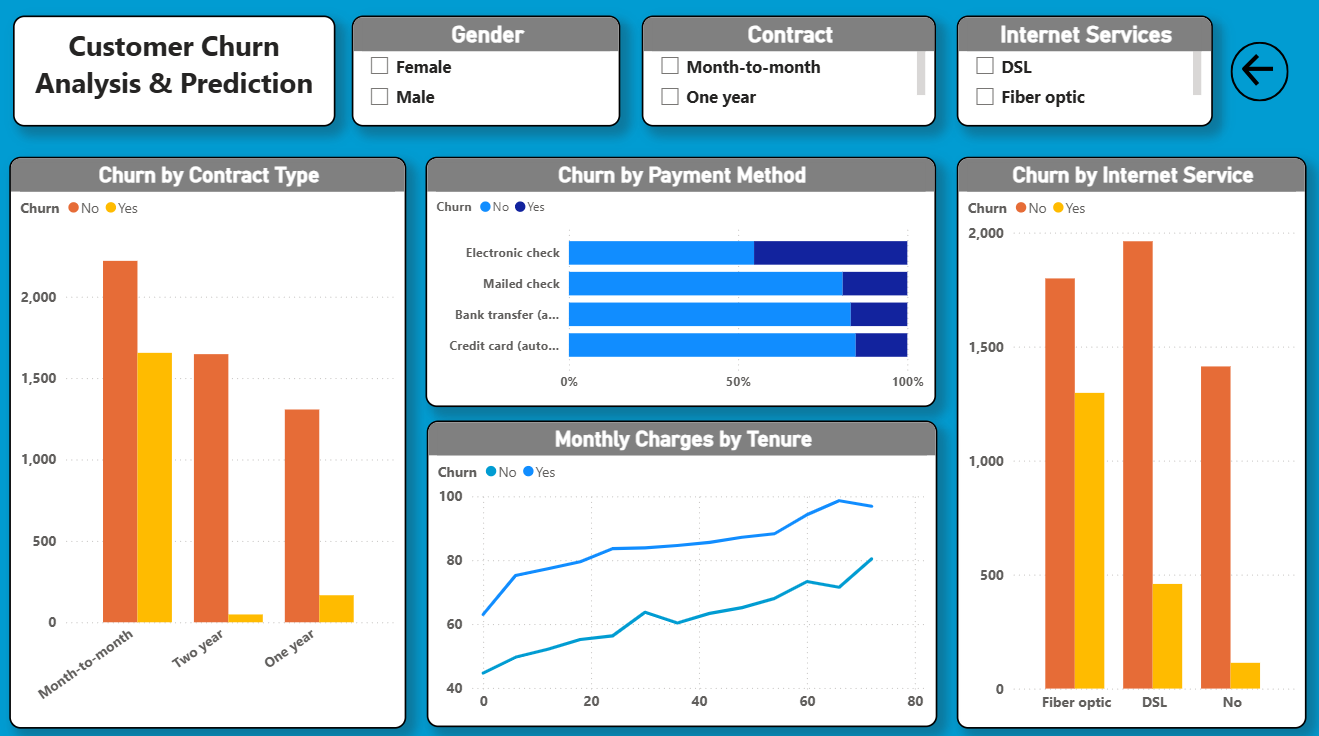

This screenshot's page, from the dashboard's own definition file:
{"tool":"powerbi","page":{"name":"Churn Analysis","canvas":[1280,720],"ordinal":1},"visuals":[{"type":"clusteredColumnChart","title":"Churn by Contract Type","fields":{"Category":["Churn_dataset.Contract"],"Y":["Churn_dataset.Churn Rate"]},"box":[15.1,157.8,382.8,551.6],"z":0},{"type":"clusteredBarChart","title":"Churn by Payment Method","fields":{"Category":["Churn_dataset.PaymentMethod"],"Y":["Churn_dataset.Churn Rate"]},"box":[417.2,157.8,492.6,241.5],"z":1000},{"type":"clusteredColumnChart","title":"Churn by Internet Service","fields":{"Category":["Churn_dataset.InternetService"],"Y":["Churn_dataset.Churn Rate"]},"box":[930.4,157.8,337.6,551.6],"z":2000},{"type":"lineChart","title":"Monthly Charges by Tenure","fields":{"Y":["Churn_dataset.Avg Monthly Charges"],"Category":["Churn_dataset.tenure (bins)"],"Series":["Churn_dataset.Churn"]},"box":[418.5,413,492.6,296.4],"z":3000},{"type":"textbox","box":[19.2,22,311.5,107],"z":4000},{"type":"shape","box":[1193.8,46.7,56.3,57.6],"z":5000},{"type":"actionButton","box":[1202.1,54.9,42.5,39.8],"z":6000},{"type":"slicer","title":"Gender","fields":{"Values":["Churn_dataset.gender"]},"box":[345.8,22,259.3,107],"z":7000},{"type":"slicer","title":"Contract","fields":{"Values":["Churn_dataset.Contract"]},"box":[625.7,22,284,107],"z":8000},{"type":"slicer","title":"Internet Services","fields":{"Values":["Churn_dataset.InternetService"]},"box":[930.4,22,247,107],"z":9000}]}

Visuals, with their boxes in screenshot pixels (x1, y1, x2, y2), scaled from the page's 1280x720 canvas onto the 1319x736 screenshot:
"Churn by Contract Type" clusteredColumnChart: Rect(16, 161, 410, 725)
"Churn by Payment Method" clusteredBarChart: Rect(430, 161, 938, 408)
"Churn by Internet Service" clusteredColumnChart: Rect(959, 161, 1307, 725)
"Monthly Charges by Tenure" lineChart: Rect(431, 422, 939, 725)
textbox: Rect(20, 22, 341, 132)
shape: Rect(1230, 48, 1288, 107)
actionButton: Rect(1239, 56, 1283, 97)
"Gender" slicer: Rect(356, 22, 624, 132)
"Contract" slicer: Rect(645, 22, 937, 132)
"Internet Services" slicer: Rect(959, 22, 1213, 132)
